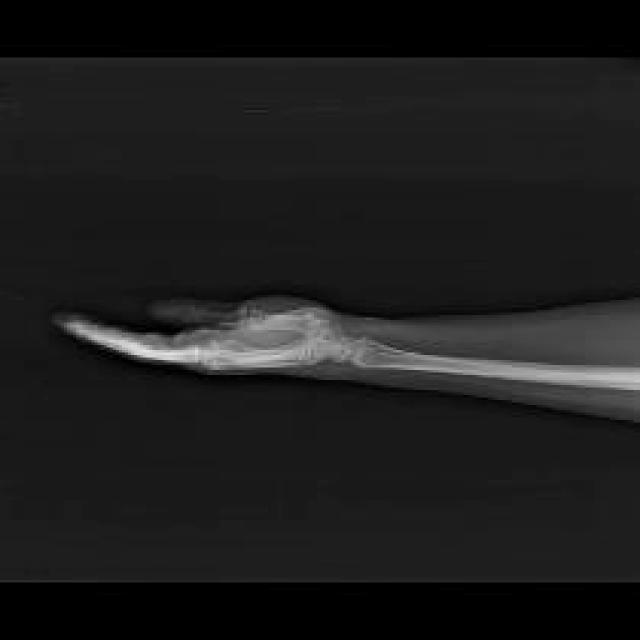normal: (61, 304, 640, 391)
